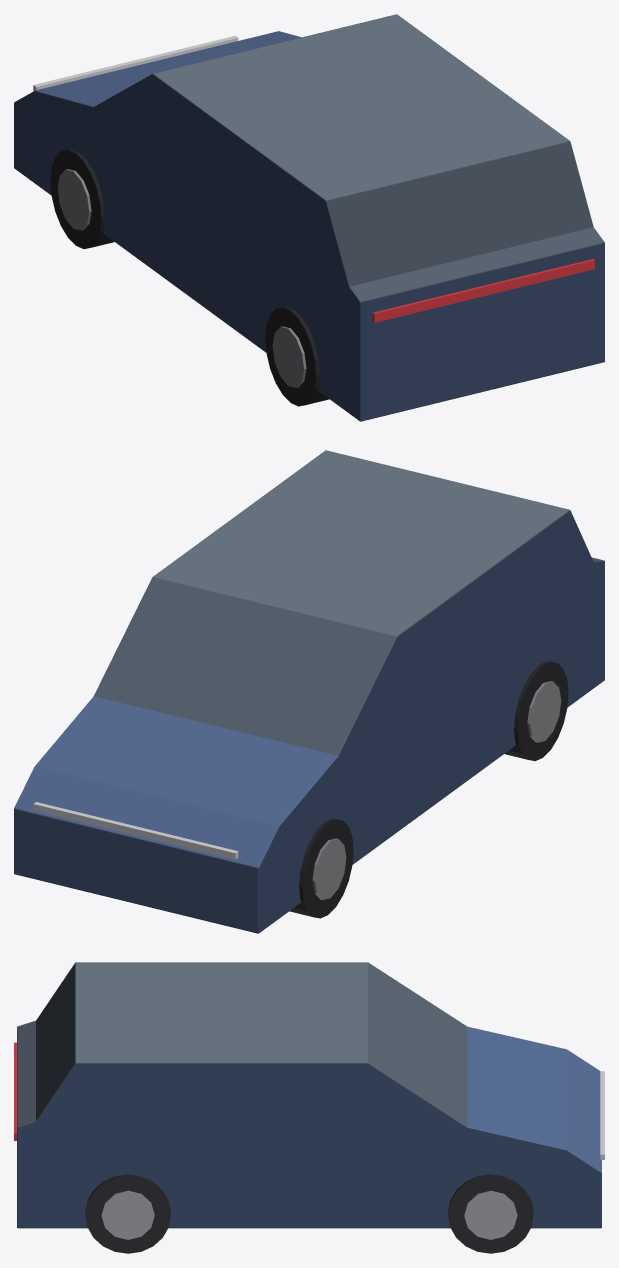
Rendered from trail.glb.
3 views of the same model, one above another, from view 1: azimuth 30°, elevation 25°; view 2: azimuth 150°, elevation 25°; view 3: azimuth 270°, elevation 25° (orthographic). The views are drawn at different scales.
Visible parts, largest first — view 1: trail; view 2: trail; view 3: trail.
Boxes of the visible parts, bbox=[...] form: trail: bbox=[14, 14, 604, 421]; trail: bbox=[14, 450, 604, 933]; trail: bbox=[14, 962, 604, 1253].
Size of the model in its own units: 2.1 by 1.75 by 4.95.
